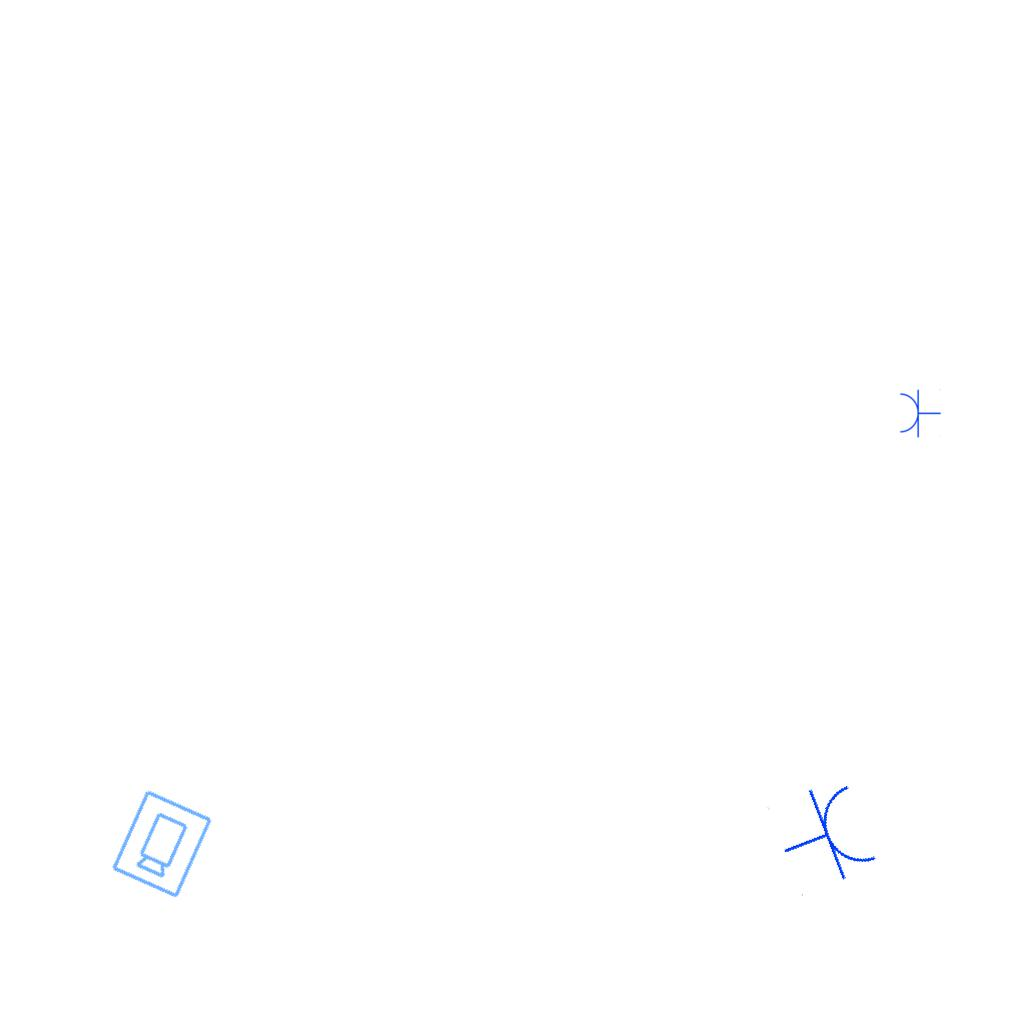KFO_Kamera_mit_Festobjektiv: (107, 786, 216, 901)
Schukosteckdose_einfach: (766, 774, 884, 899), (898, 388, 941, 438)
